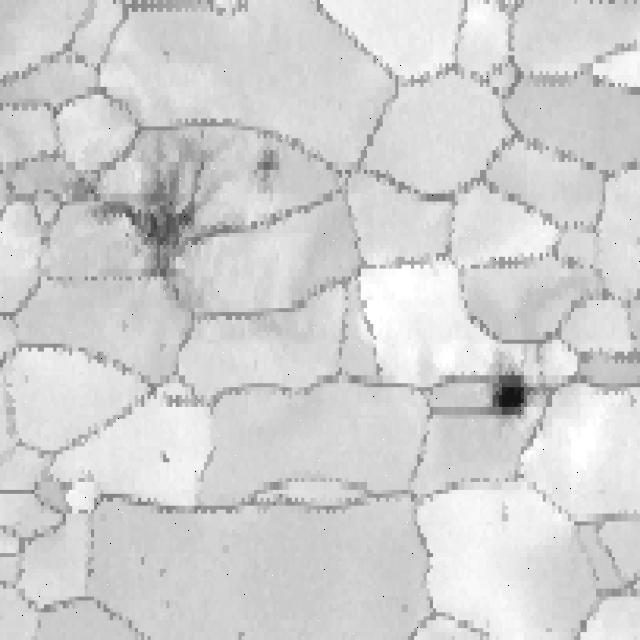good_void: (75, 113, 226, 311), (478, 354, 534, 423), (244, 141, 283, 204), (156, 443, 176, 465), (494, 502, 512, 526), (234, 626, 246, 640)
